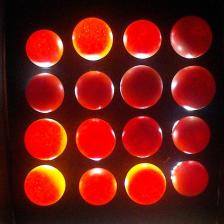fertile: (172, 65, 216, 110), (170, 15, 212, 59), (121, 65, 163, 109), (122, 116, 162, 158), (25, 73, 65, 113), (75, 71, 114, 110), (171, 116, 211, 154), (172, 160, 209, 197)
infertile: (24, 118, 68, 160), (124, 162, 166, 206), (72, 17, 113, 60), (75, 118, 116, 160), (24, 165, 66, 206), (25, 29, 64, 67), (124, 20, 162, 59), (80, 168, 116, 206)
